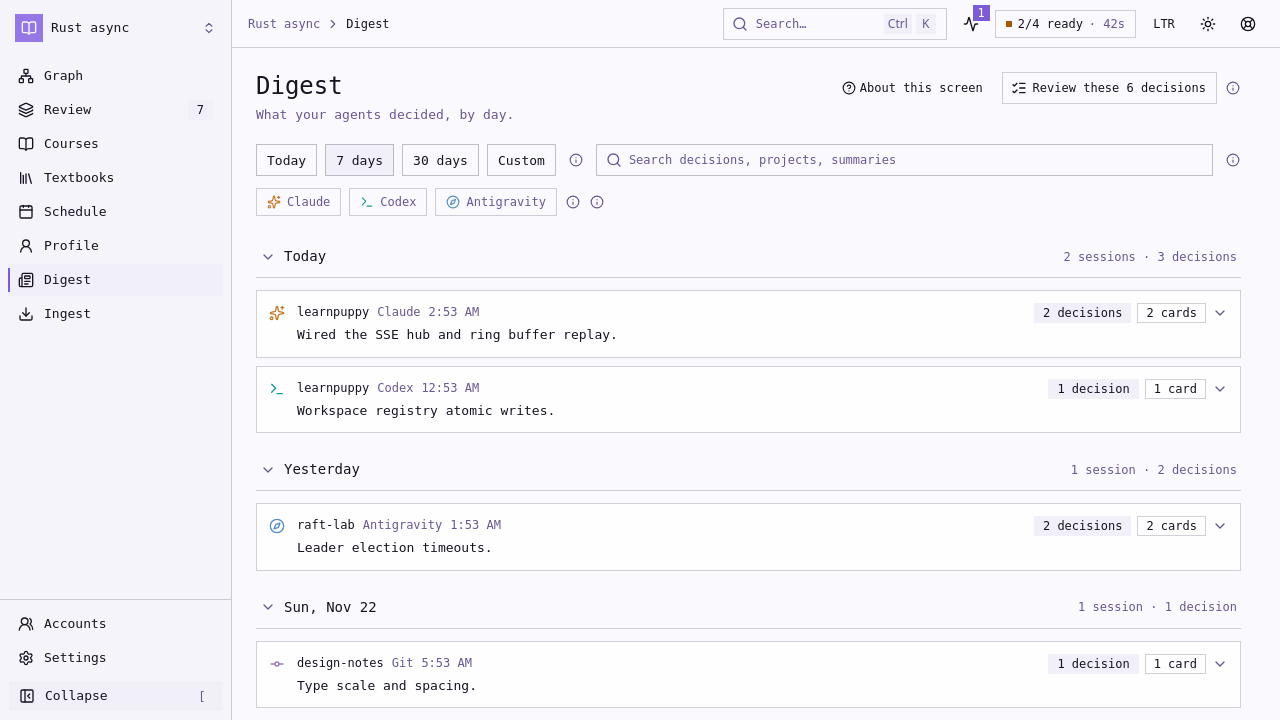
Test: digest info › a controls tip opens its dialog
This screenshot has width=1280, height=720.
Click the button named "About Sources" at coordinates (573, 202), box [565,194,581,210]
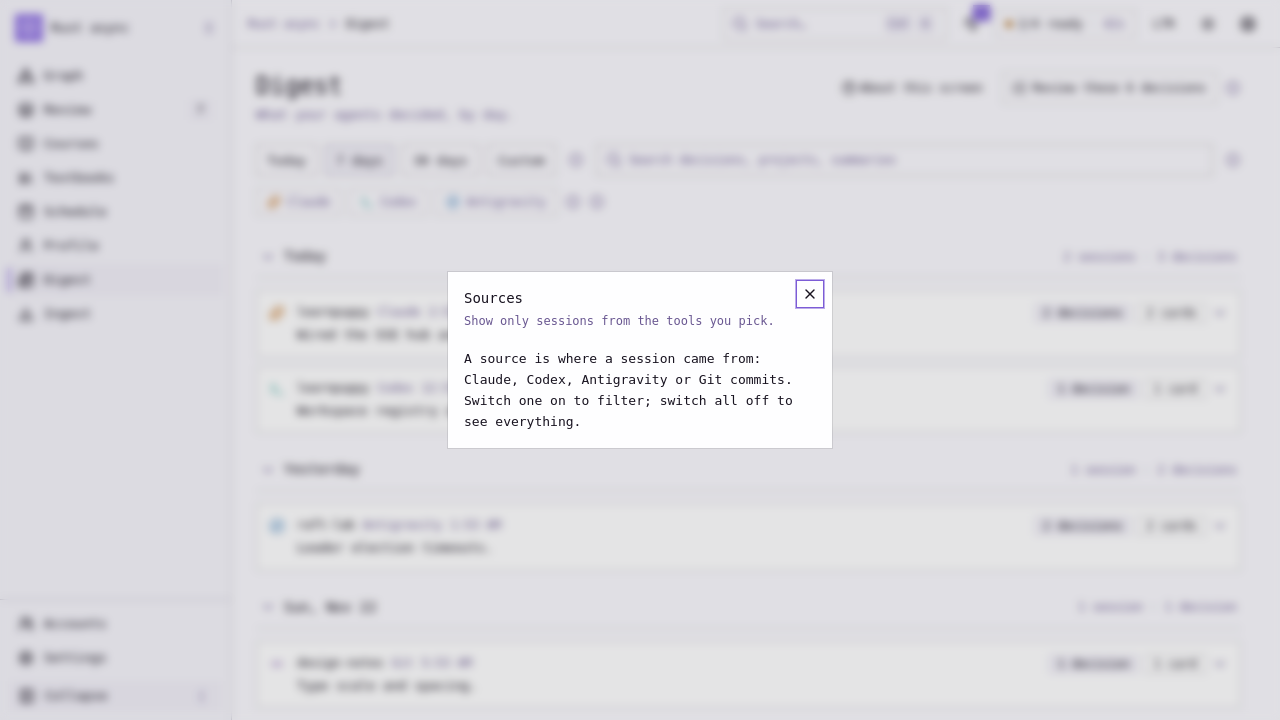
Now the dialog with test id "info-dialog" shows "Claude, Codex, Antigravity or Git", box [464,350,793,429]
